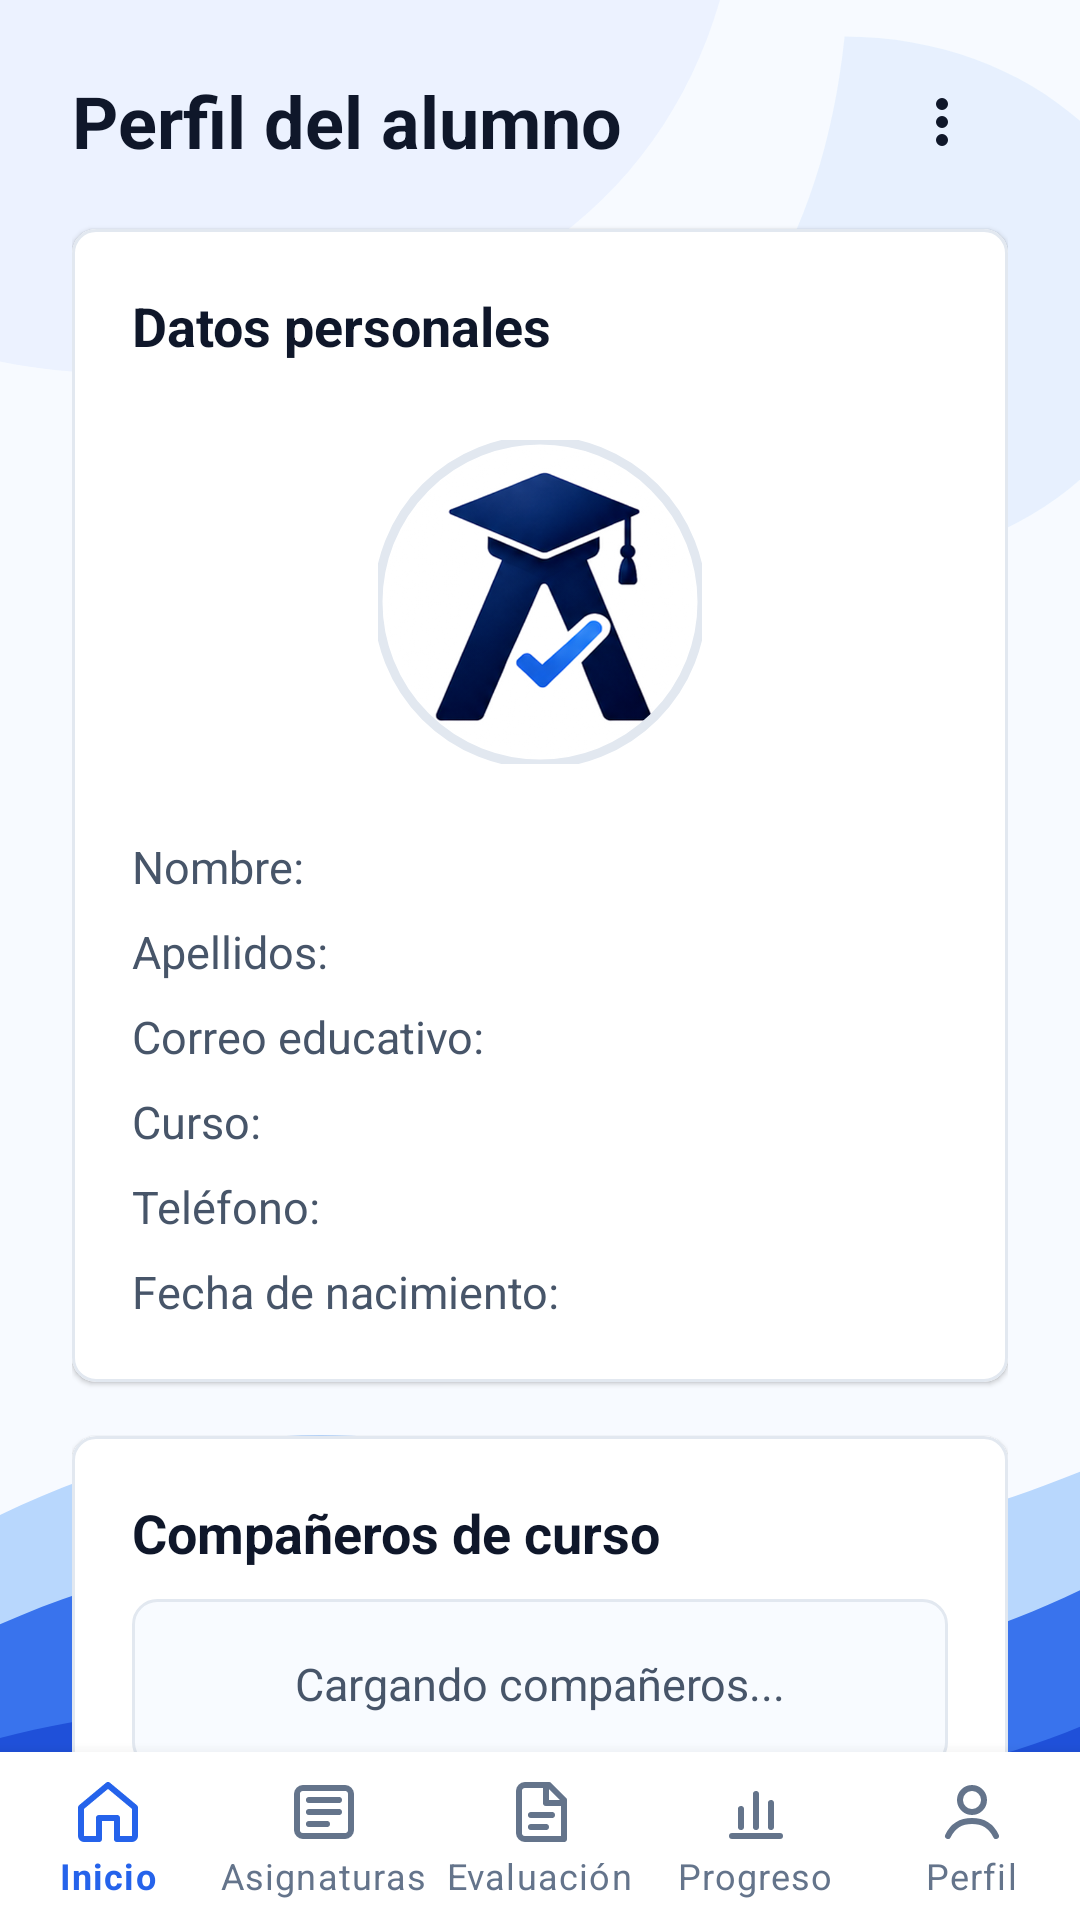

Named icons in this screenshot (1080px x 1920px) and their bounding boxes, [left=x1, top=y1, right=x2, bottom=y2]:
Opciones de perfil: [left=936, top=98, right=948, bottom=146]
